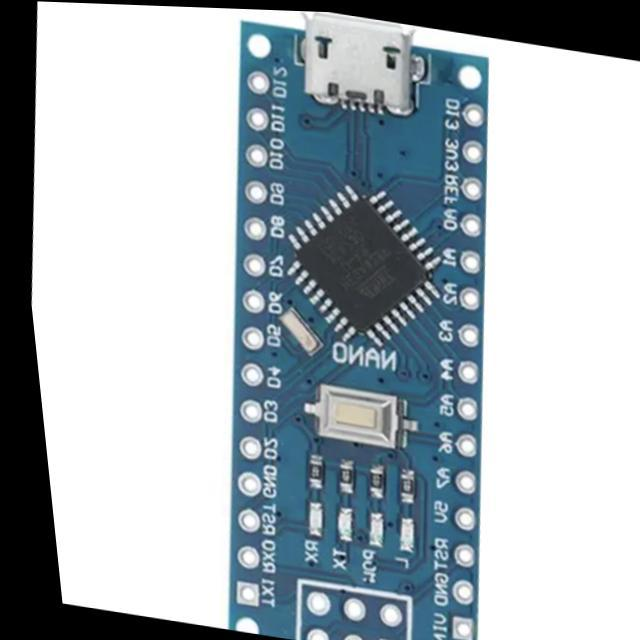Arduino-Nano: (231, 14, 488, 640)
